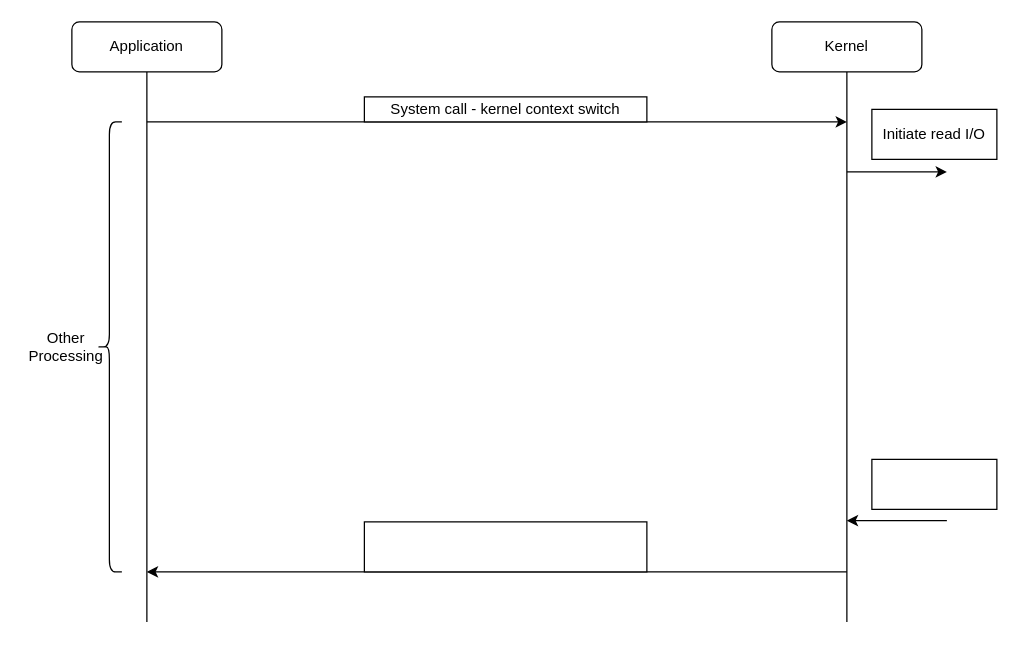
The diagram is 1019 pixels wide and 645 high, and some of its shapes have lost their labels. The shapes that lost their labels are listed below. From the top down, each one's centre as x and y in pixels, then its label:
the point at 934,483: Read response
the point at 505,546: Data movement from kernel space to user space
